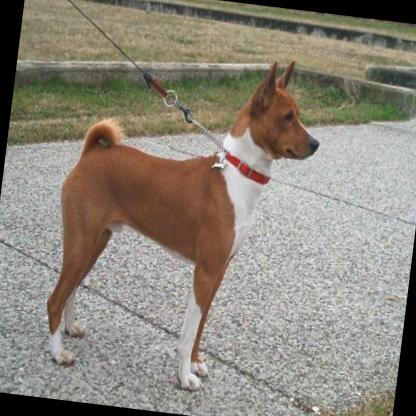basenji: (34, 31, 329, 401)
